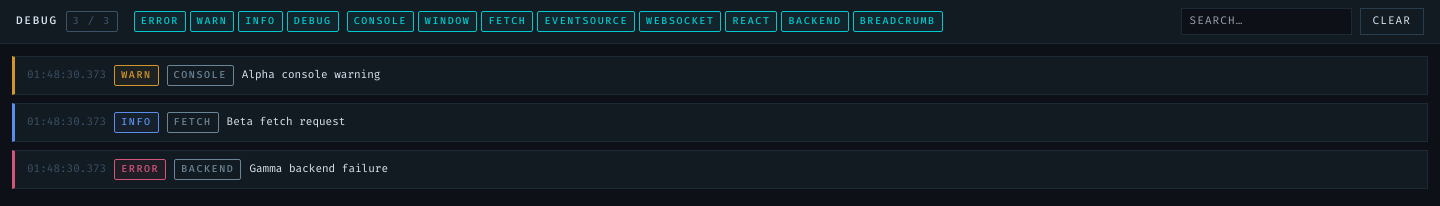
it: DebugView › filters by level, source, and search text
This screenshot has width=1440, height=206.
Expected: the text with test id "debug-view-count" reads "3 / 3", [66,11,118,32]
Expected: the text "Alpha console warning" is shown, [242,68,380,81]
Click the button with test id "debug-filter-level-warn" at [212, 21], box [190,11,234,32]
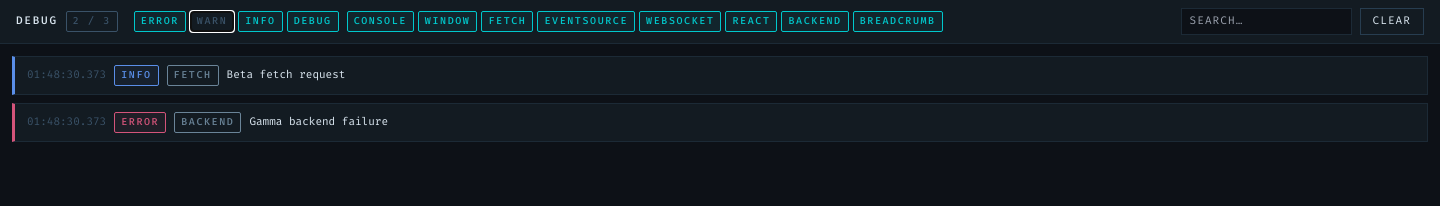
Expected: the text with test id "debug-view-count" reads "2 / 3", [66,11,118,32]
Result: the text "Alpha console warning" is gone
Click the button with test id "debug-filter-source-fetch" at [508, 21], box [482,11,534,32]
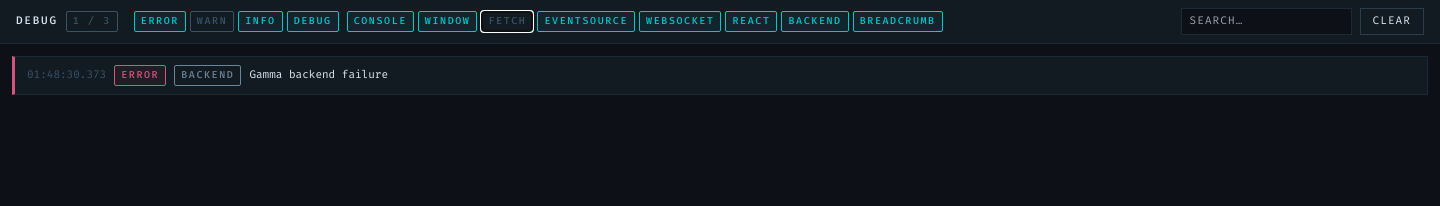
Expected: the text with test id "debug-view-count" reads "1 / 3", [66,11,118,32]
Result: the text "Beta fetch request" is gone
Type "delta" into the search field with test id "debug-search" at [1266, 21], box [1180,8,1352,34]
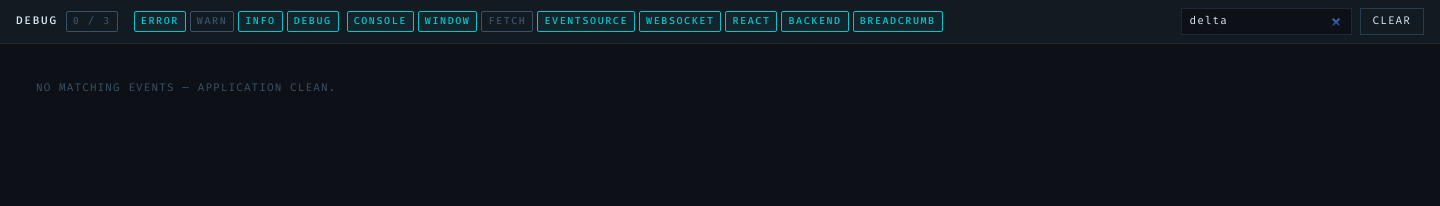
Result: the text with test id "debug-view-count" reads "0 / 3" at [66,11,118,32]
Result: the text "NO MATCHING EVENTS — APPLICATION CLEAN." is shown at [36,80,336,94]
